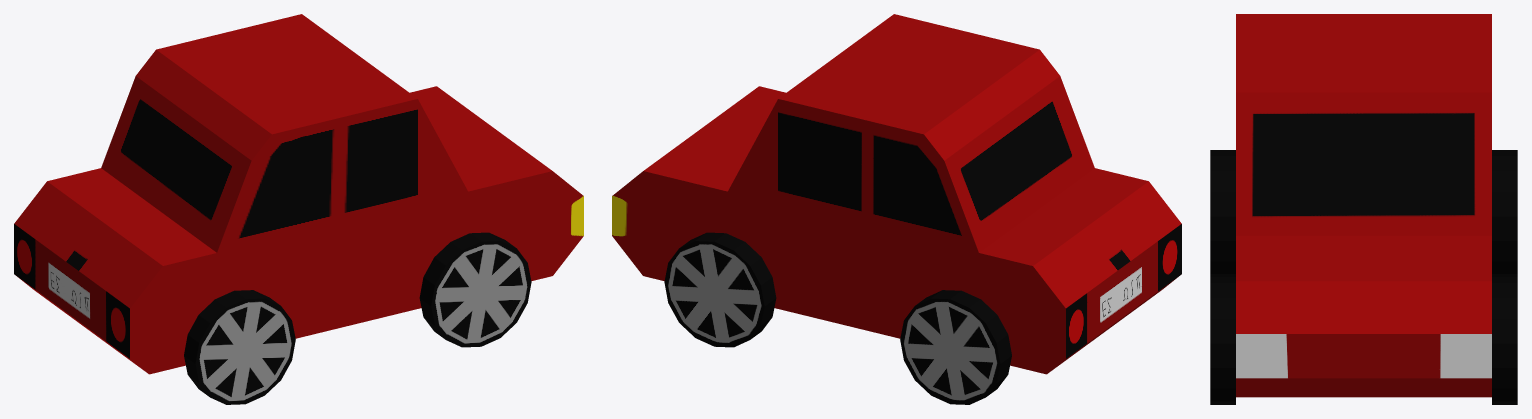
File: car1_red.gltf
3 views of the same model, side by side, from view 1: azimuth 30°, elevation 25°; view 2: azimuth 150°, elevation 25°; view 3: azimuth 270°, elevation 25° (orthographic). The views are drawn at different scales.
Parts seen in each view (by area): view 1: car, tireBR, tireFR; view 2: car, tireBL, tireFL; view 3: car, tireFL, tireFR, tireBL, tireBR.
Boxes of the visible parts, bbox=[...] form: car: bbox=[14, 14, 583, 374]; tireBR: bbox=[184, 290, 295, 404]; tireFR: bbox=[419, 232, 531, 347]; car: bbox=[612, 14, 1181, 374]; tireBL: bbox=[900, 290, 1011, 404]; tireFL: bbox=[664, 232, 776, 347]; car: bbox=[1236, 14, 1491, 397]; tireFL: bbox=[1492, 277, 1517, 404]; tireFR: bbox=[1210, 277, 1235, 404]; tireBL: bbox=[1492, 150, 1517, 276]; tireBR: bbox=[1210, 150, 1235, 276].
Bounding box in the file's own units: 4.52 × 2.4 × 2.4.
Materials: 5 (5 with a texture image).
